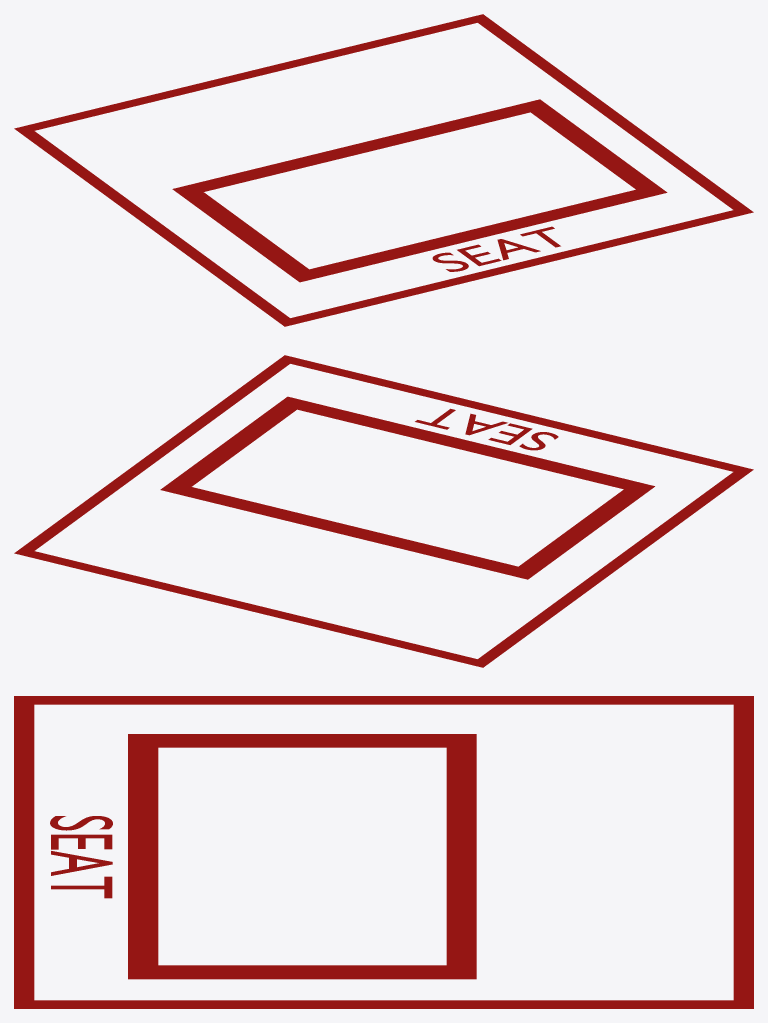
Rendered from Prefab_Mesh_Seat.fbx.
3 views of the same model, one above another, from view 1: azimuth 30°, elevation 25°; view 2: azimuth 150°, elevation 25°; view 3: azimuth 270°, elevation 25° (orthographic). The views are drawn at different scales.
Visible parts, largest first — view 1: Seat_Placement; view 2: Seat_Placement; view 3: Seat_Placement.
Boxes of the visible parts, x1,y1,x2,y2 form: Seat_Placement: (14,14,753,326); Seat_Placement: (14,355,753,667); Seat_Placement: (14,696,753,1008).
Size of the model in its own units: 39.38 by 3.54e-06 by 39.38.
